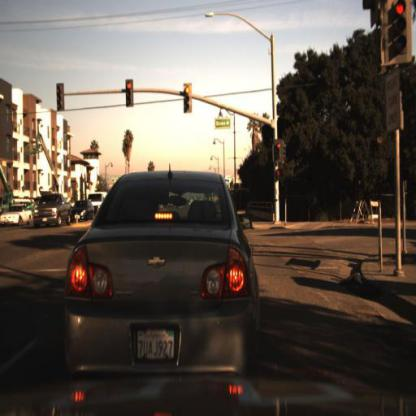car: (61, 169, 262, 387), (33, 190, 73, 226), (0, 203, 35, 228), (68, 196, 96, 221), (92, 188, 106, 217)
trafficLight: (182, 81, 193, 115)
trafficLight-Red: (387, 0, 406, 55), (124, 78, 133, 104), (274, 134, 282, 163), (276, 138, 281, 154)
